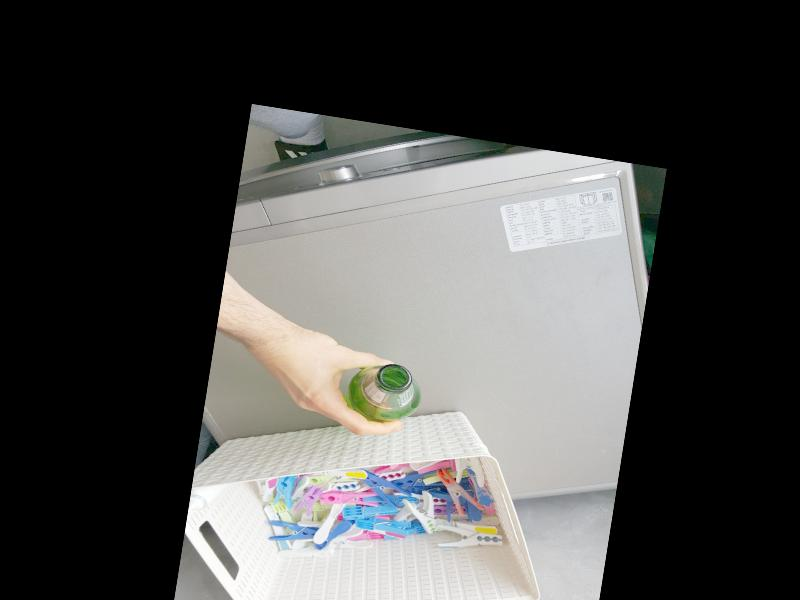Beer: (342, 356, 426, 427)
